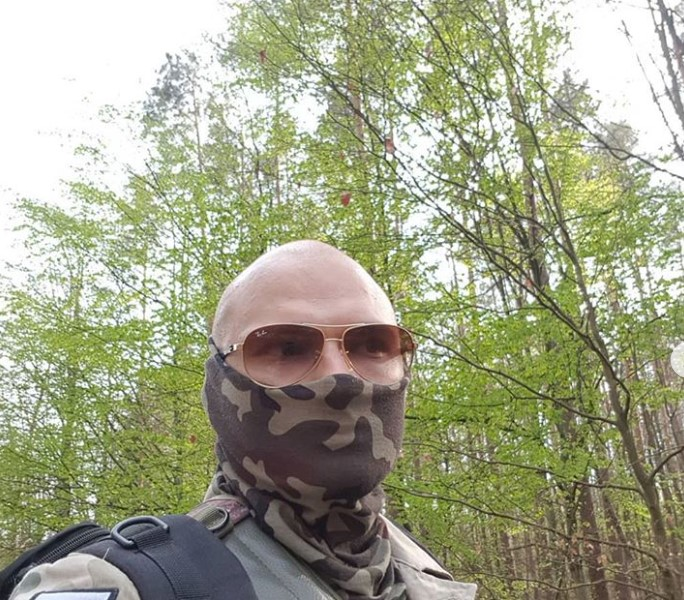face_with_mask: (205, 244, 404, 502)
